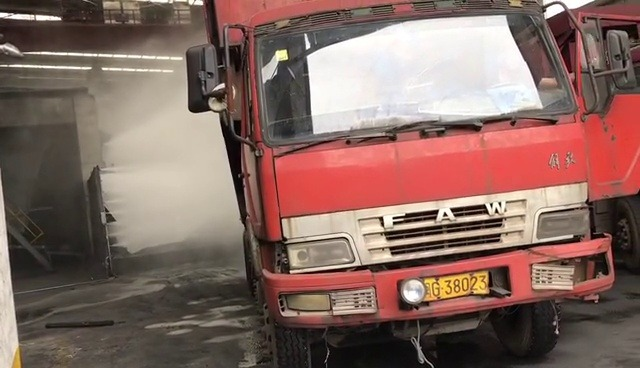dust: (71, 41, 241, 249)
truck: (189, 0, 640, 368)
